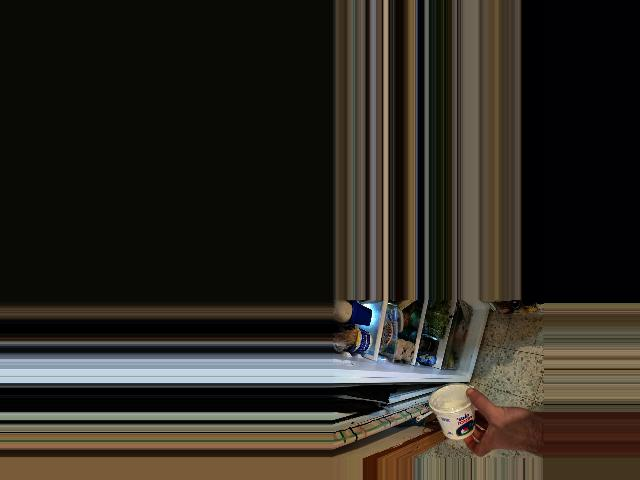cotage: (425, 393, 480, 440)
